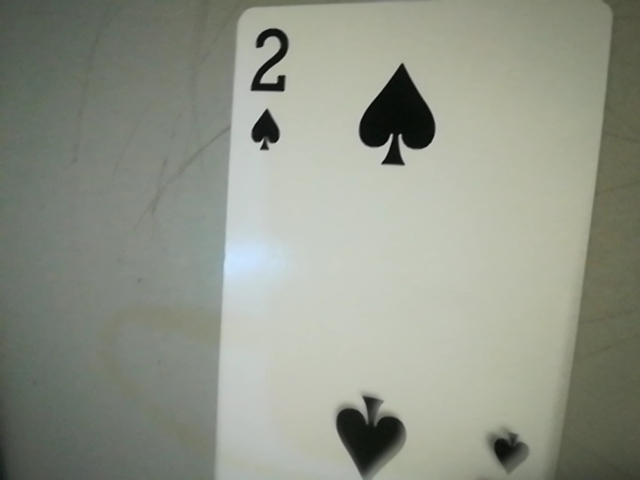ht 2: (238, 14, 305, 162)
